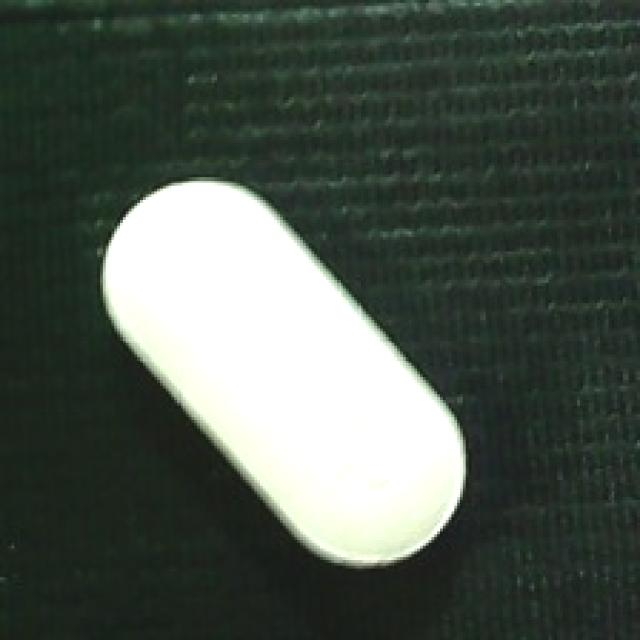no-defect: (99, 175, 468, 570)
